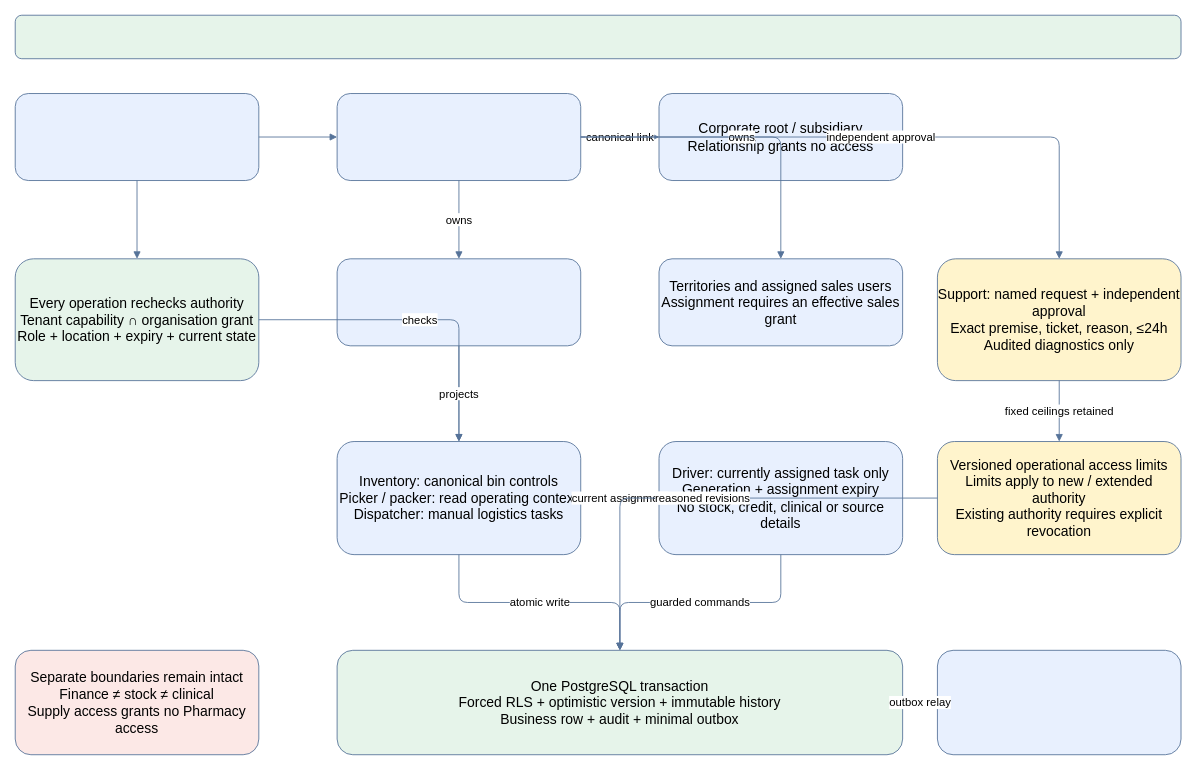
Some shapes in this 1196 by 770 pixel diagram are drawn without their labels. The shapes that lost their labels are listed below. From the top down, each one's centre as x and y in pixels, then its label:
At pixel 597 36: "PharmaConnect · Distributor structure and least-privilege access".
At pixel 136 137: "Tenant boundary Verified session + current IAM membership".
At pixel 458 137: "Owned legal organisation Independent country registrations".
At pixel 458 302: "Warehouse / depot → bins Owned by legal organisation Optional branch grouping".
At pixel 1059 702: "NATS JetStream At-least-once relay Idempotent consumers".
